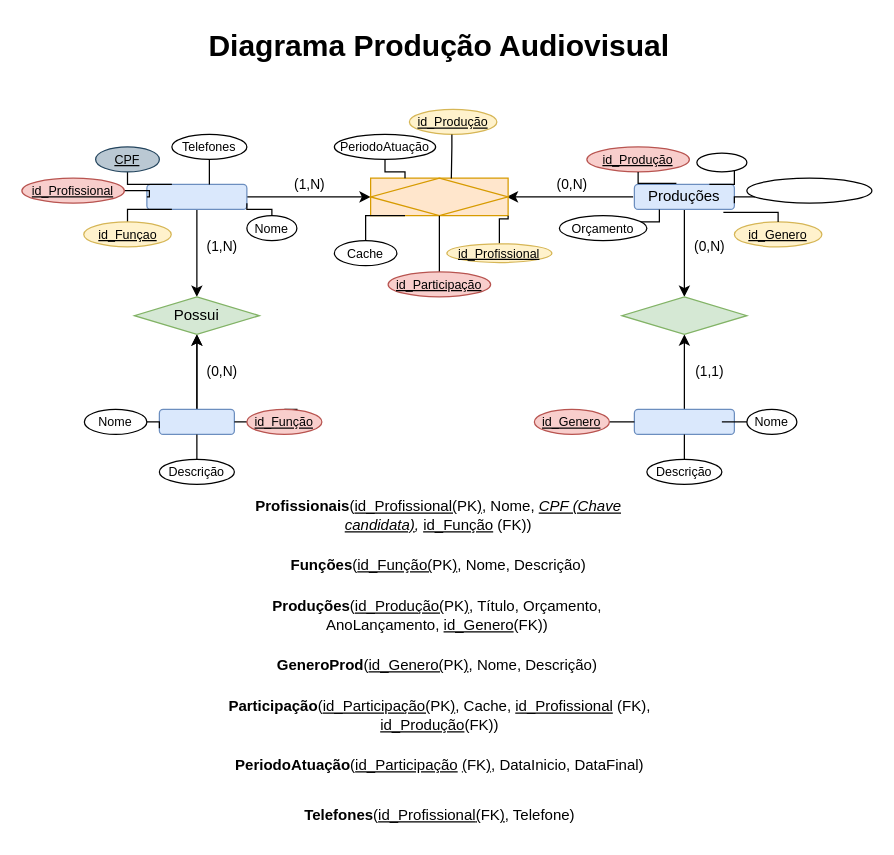
The diagram is 894 pixels wide and 855 high, and some of its shapes have lost their labels. The shapes that lost their labels are listed below. From the top down, each one's box as (x1, y1, x2, y2) in pixels, then its label:
(696, 152, 747, 172): Título
(146, 183, 247, 209): Profissionais
(369, 177, 508, 216): Participação
(746, 177, 872, 203): AnoLançamento
(621, 296, 747, 334): Pertence
(158, 408, 234, 434): Funções
(633, 408, 734, 434): GêneroProd
